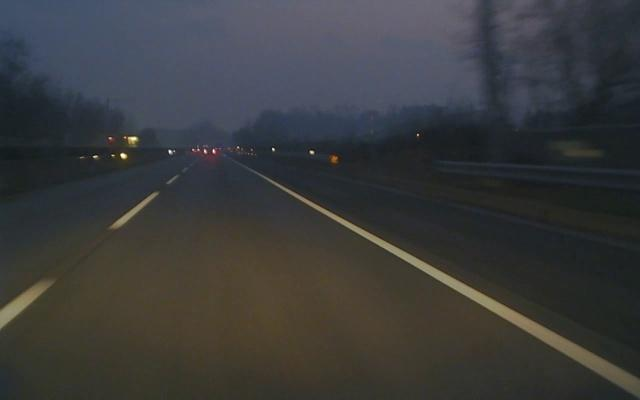lane: (236, 162, 640, 400), (0, 174, 181, 331)
